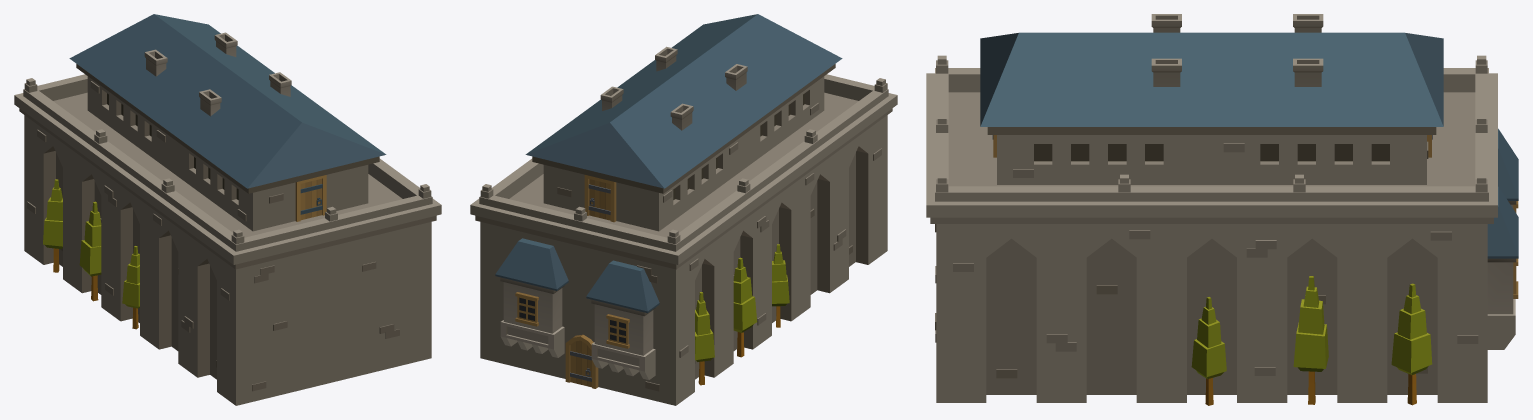
File: SF_Bld_Castle_Hall_02.fbx
The picture shows the model from 3 angles, left to right: view 1: azimuth 30°, elevation 25°; view 2: azimuth 150°, elevation 25°; view 3: azimuth 270°, elevation 25°; orthographic projection. The views are drawn at different scales.
Parts seen in each view (by area): view 1: SF_Bld_Castle_Hall_02; view 2: SF_Bld_Castle_Hall_02; view 3: SF_Bld_Castle_Hall_02.
Part boxes in pixels (box(x1,y1,x2,y2)): SF_Bld_Castle_Hall_02: box(14, 14, 441, 405); SF_Bld_Castle_Hall_02: box(470, 14, 897, 405); SF_Bld_Castle_Hall_02: box(926, 14, 1518, 405).
Size of the model in its own units: 19.62 by 20.1 by 35.07.
